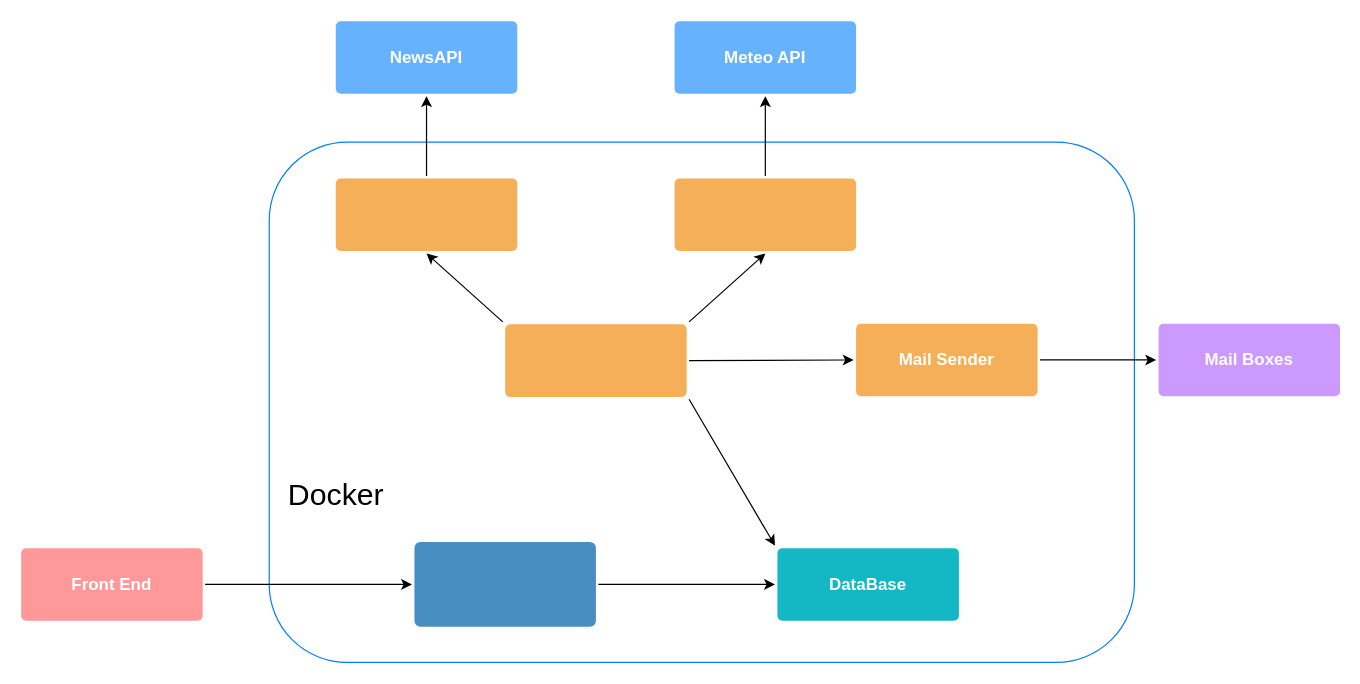
Some shapes in this 1360 by 684 pixel diagram are drawn without their labels. Each missing label, with the centre of its shape:
Authentification Server: (504,583)
Mail Builder: (595,360)
Meteo Builder: (764,214)
News Builder: (426,214)
